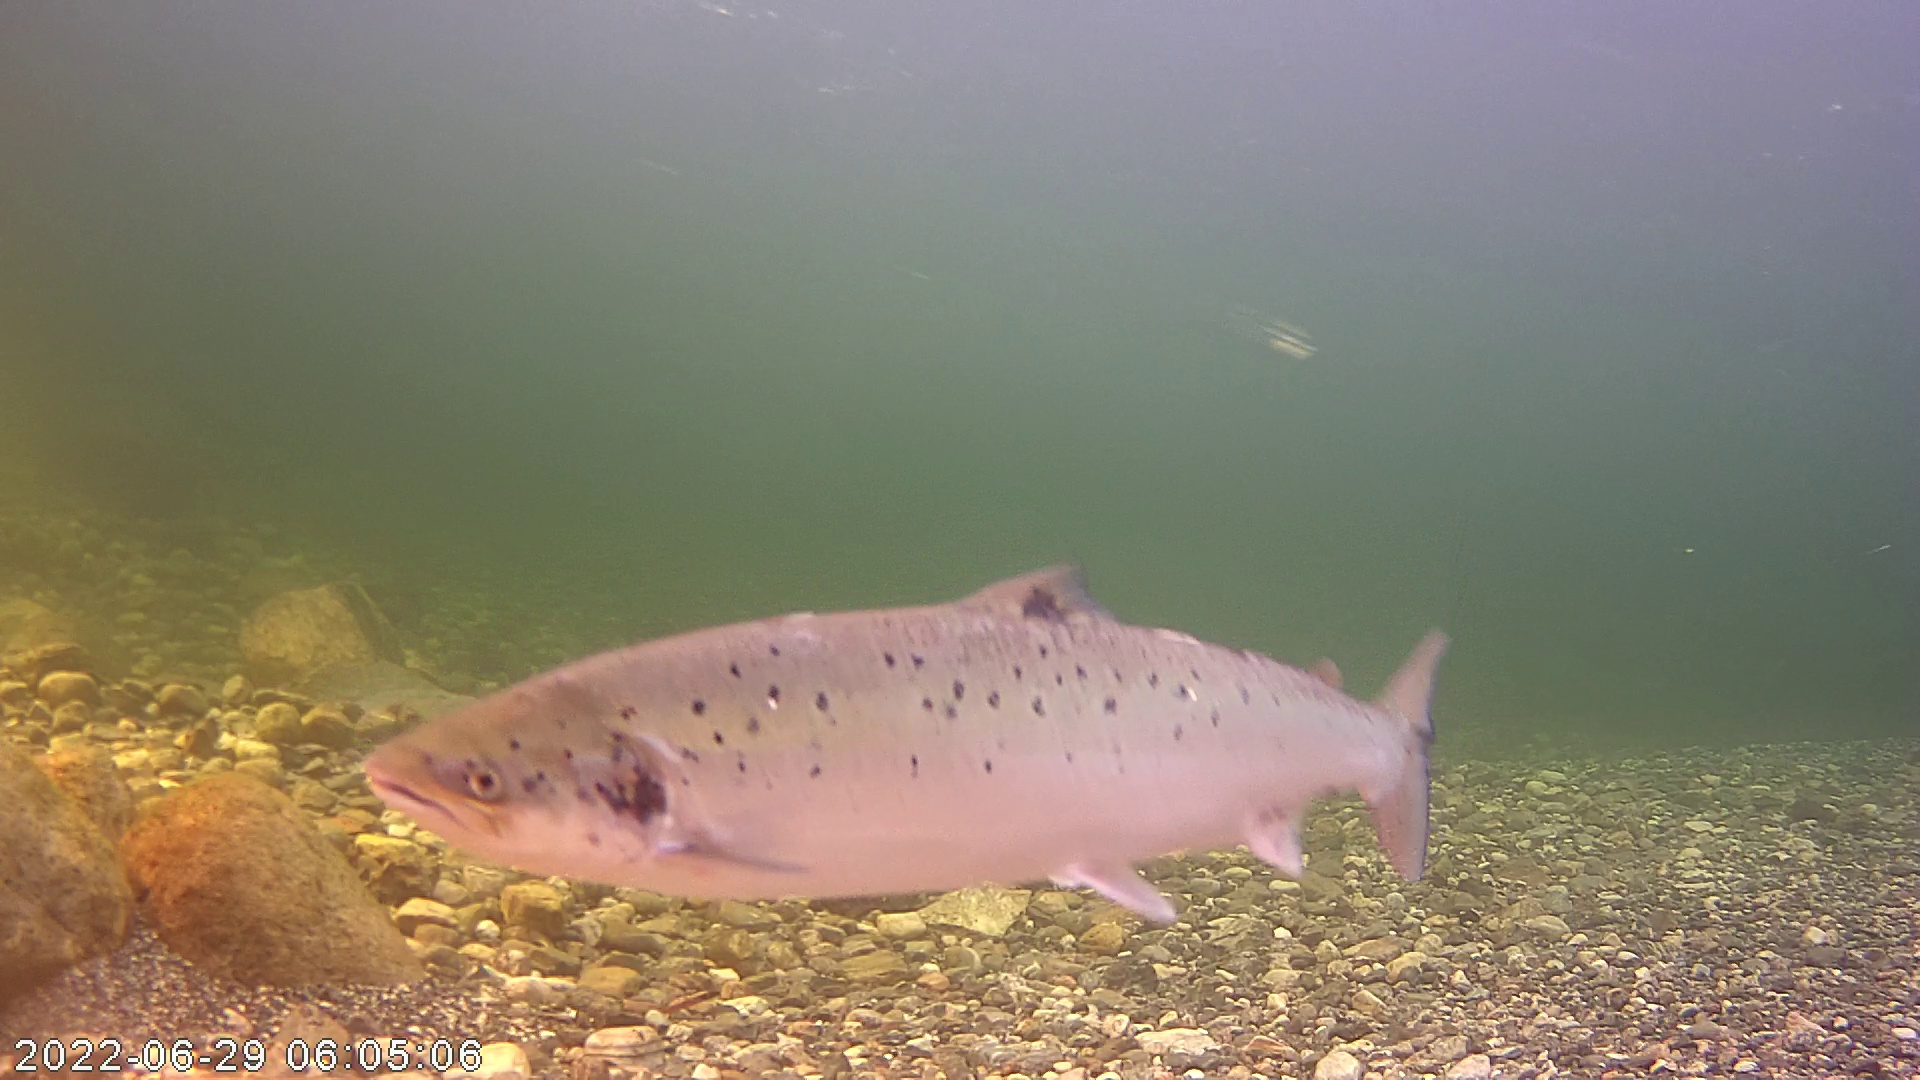salmon: (349, 465, 1439, 927)
